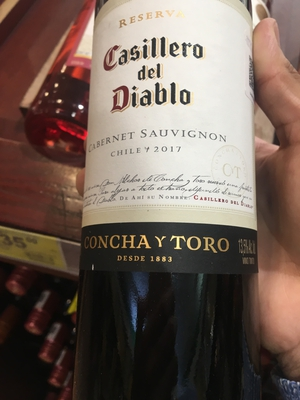casillero del diablo cabernet sauvignon: (82, 1, 265, 398)
